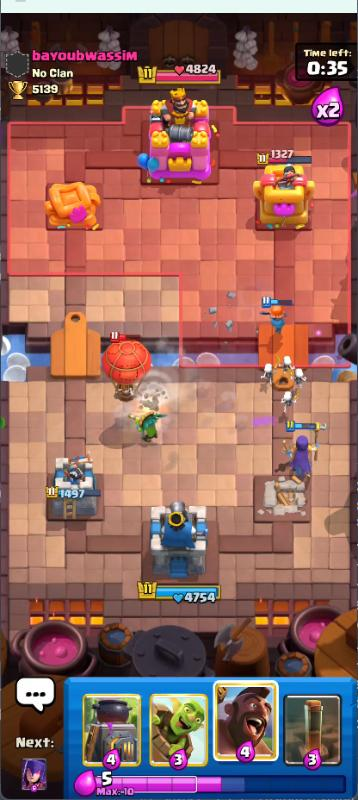squelette: (277, 350, 294, 380), (279, 388, 297, 416), (258, 361, 275, 387), (294, 368, 313, 389)
valkyrie: (257, 291, 296, 340)
